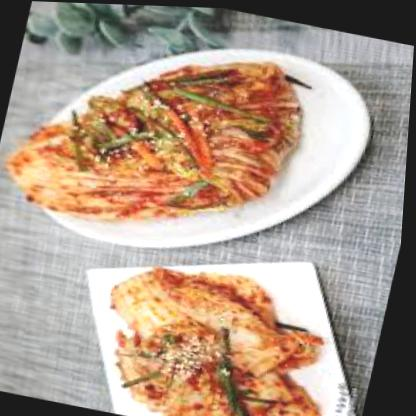Kimchi stew: (10, 36, 303, 241), (90, 259, 352, 415)
